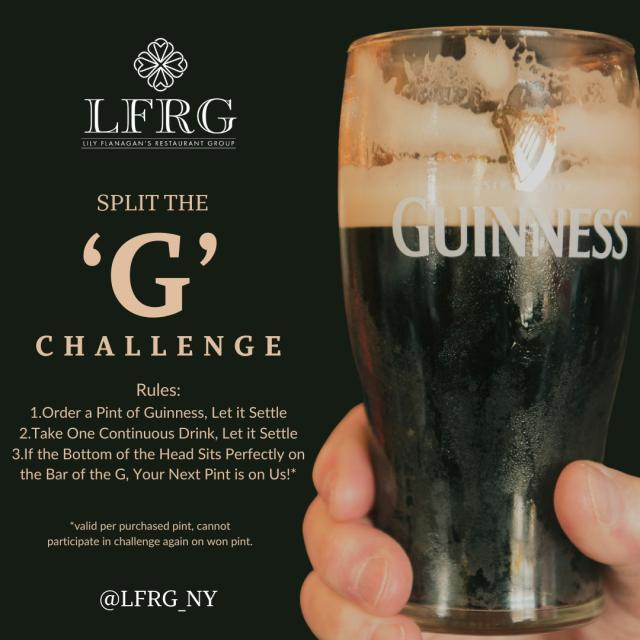split_guiness: (339, 28, 640, 632)
